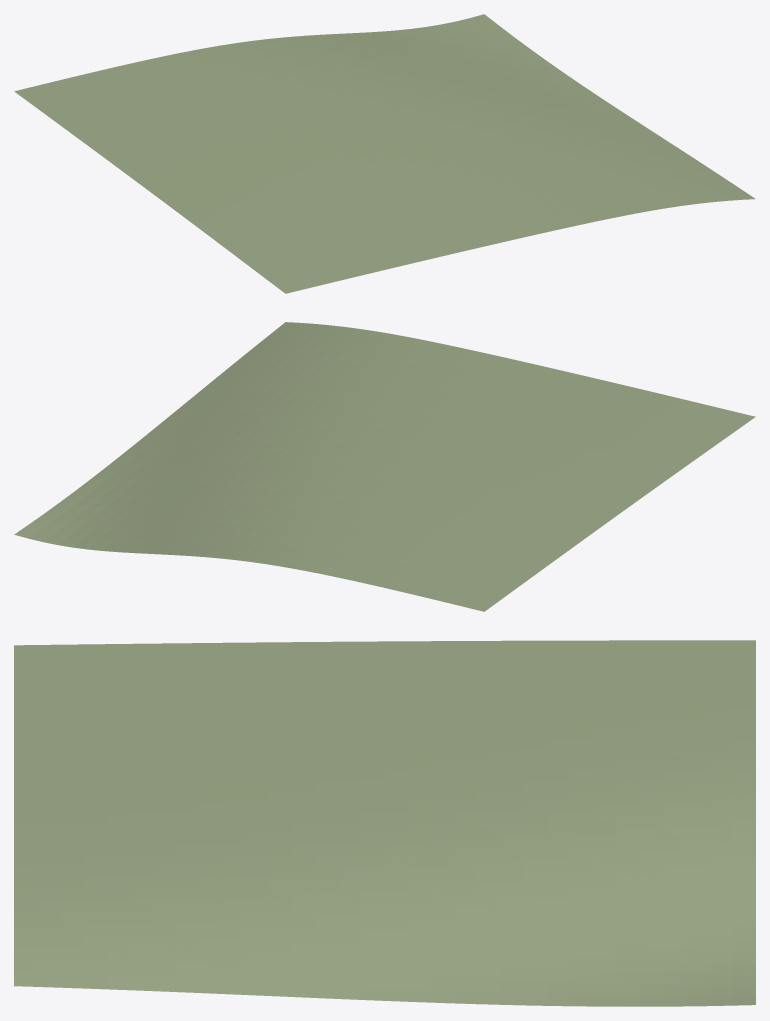
The model's file is desert-13-25.glb.
3 renders of one model, top to bottom at view 1: azimuth 30°, elevation 25°; view 2: azimuth 150°, elevation 25°; view 3: azimuth 270°, elevation 25°, orthographic. The views are drawn at different scales.
Parts seen in each view (by area): view 1: desert-13-25; view 2: desert-13-25; view 3: desert-13-25.
Boxes of the visible parts, left/top/right/bottom form: desert-13-25: left=14, top=14, right=755, bottom=293; desert-13-25: left=14, top=322, right=755, bottom=611; desert-13-25: left=14, top=640, right=755, bottom=1006.
Bounding box in the file's own units: 512 × 40.35 × 512.
